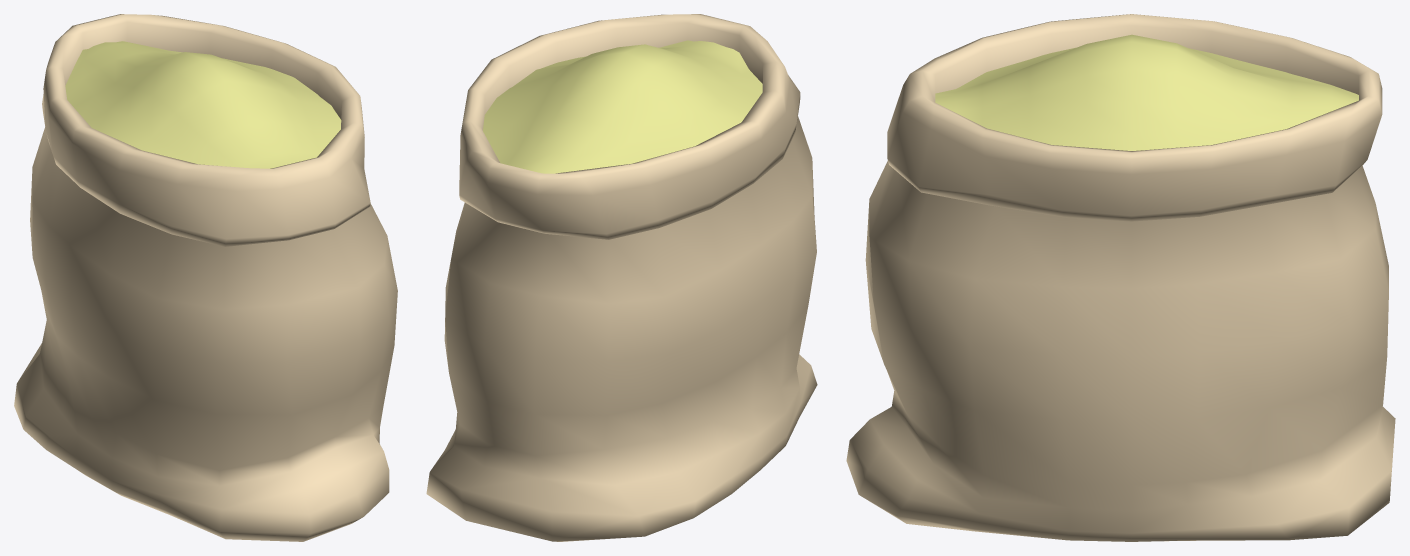
Rendered from SeedBag.fbx.
The picture shows the model from 3 angles, left to right: view 1: azimuth 30°, elevation 25°; view 2: azimuth 150°, elevation 25°; view 3: azimuth 270°, elevation 25°; orthographic projection. The views are drawn at different scales.
Visible parts, largest first — view 1: SeedBag00, SeedsInBag; view 2: SeedBag00, SeedsInBag; view 3: SeedBag00, SeedsInBag.
Part boxes in pixels (x1=…): SeedBag00: x1=14, y1=14, x2=397, y2=541; SeedsInBag: x1=65, y1=41, x2=341, y2=168; SeedBag00: x1=426, y1=14, x2=817, y2=541; SeedsInBag: x1=483, y1=40, x2=762, y2=173; SeedBag00: x1=846, y1=14, x2=1395, y2=541; SeedsInBag: x1=935, y1=34, x2=1358, y2=150.
Size of the model in its own units: 43.39 by 58.37 by 65.6.
